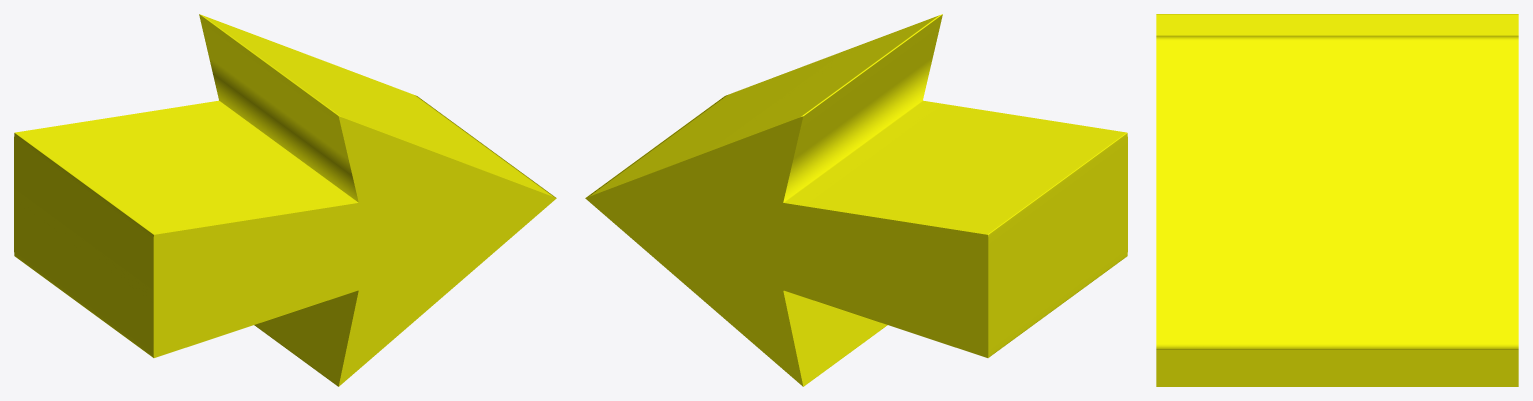
File: arrow.fbx
3 views of the same model, side by side, from view 1: azimuth 30°, elevation 25°; view 2: azimuth 150°, elevation 25°; view 3: azimuth 270°, elevation 25° (orthographic). The views are drawn at different scales.
Visible parts, largest first — view 1: WaypointArrow; view 2: WaypointArrow; view 3: WaypointArrow.
Part boxes in pixels (left/top/right/bottom): WaypointArrow: left=14, top=14, right=556, bottom=386; WaypointArrow: left=585, top=14, right=1127, bottom=386; WaypointArrow: left=1156, top=14, right=1518, bottom=386.
Bounding box in the file's own units: 0.1 × 0.0642 × 0.06.
